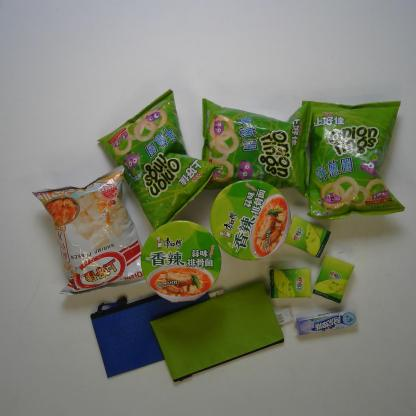Candy: (296, 309, 358, 336)
Instant Noodles: (209, 178, 292, 262), (141, 219, 222, 304)
Puffed Food: (96, 88, 223, 232), (34, 164, 151, 296), (301, 98, 406, 220), (197, 98, 314, 198)
Stationery: (150, 280, 293, 382), (90, 290, 224, 379)
Tissue: (283, 215, 332, 259), (312, 254, 355, 304), (268, 266, 313, 299)
